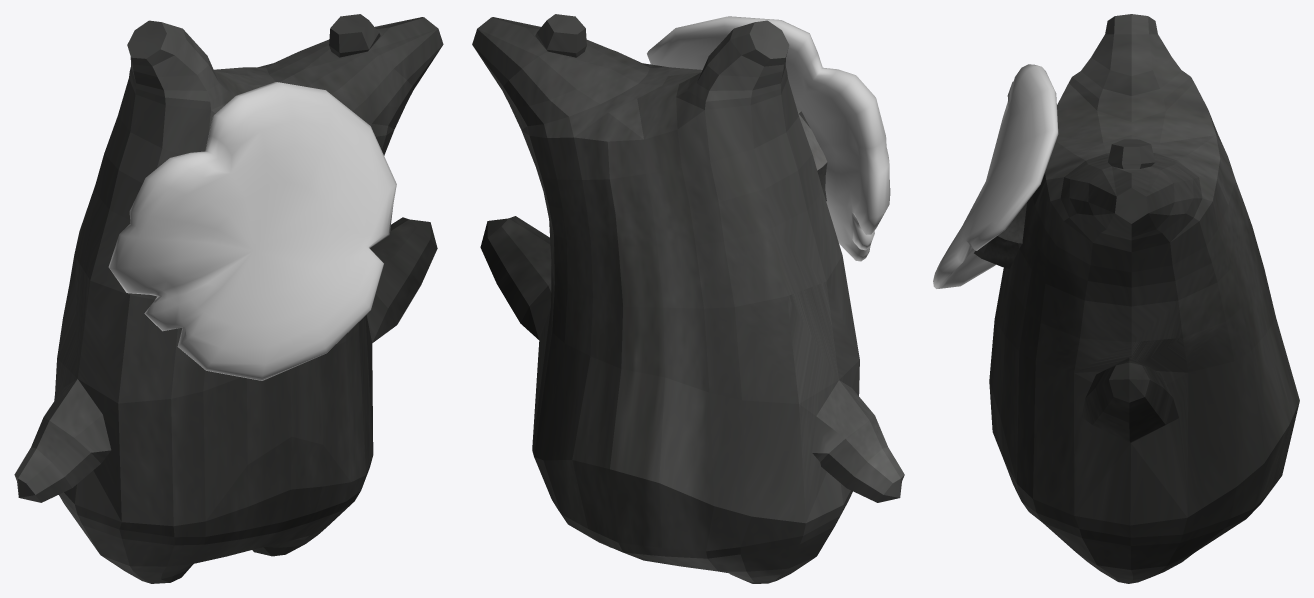
File: frame_0055.obj
3 renders of one model, left to right at view 1: azimuth 30°, elevation 25°; view 2: azimuth 150°, elevation 25°; view 3: azimuth 270°, elevation 25°, orthographic. The views are drawn at different scales.
Parts seen in each view (by area): view 1: korok, leaf; view 2: korok, leaf, nose; view 3: korok, leaf, nose.
Part boxes in pixels (x1,y1,x2,y2): korok: [14, 14, 443, 583]; leaf: [108, 82, 396, 380]; korok: [472, 14, 904, 583]; leaf: [647, 16, 890, 261]; nose: [797, 109, 827, 201]; korok: [989, 14, 1299, 583]; leaf: [933, 64, 1058, 288]; nose: [974, 203, 1026, 268].
Bounding box in the file's own units: 1.7 × 2.14 × 1.38.
